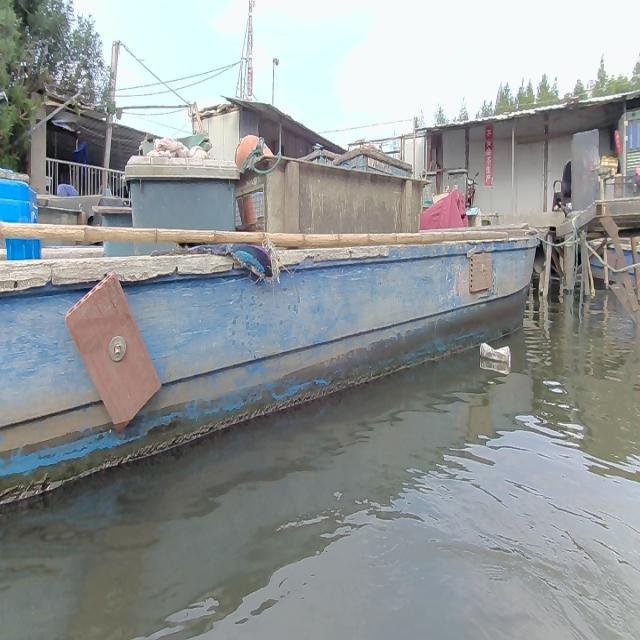bottle: (478, 335, 512, 373)
